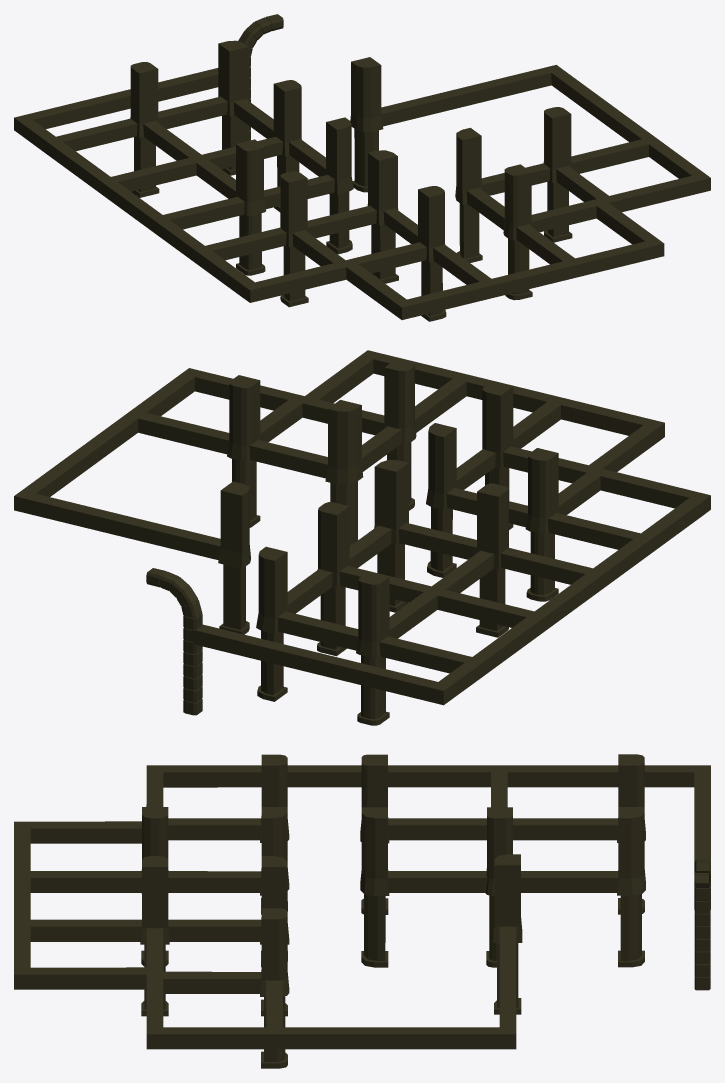
The model's file is WallDetails.fbx.
3 views of the same model, one above another, from view 1: azimuth 30°, elevation 25°; view 2: azimuth 150°, elevation 25°; view 3: azimuth 270°, elevation 25° (orthographic). The views are drawn at different scales.
Parts seen in each view (by area): view 1: Prison_Wall_Details; view 2: Prison_Wall_Details; view 3: Prison_Wall_Details.
Boxes of the visible parts, box(x1,y1,x2,y2) form: Prison_Wall_Details: box(14, 14, 710, 321); Prison_Wall_Details: box(14, 350, 710, 725); Prison_Wall_Details: box(14, 754, 710, 1068).
Bounding box in the file's own units: 3231 × 851 × 3540.
